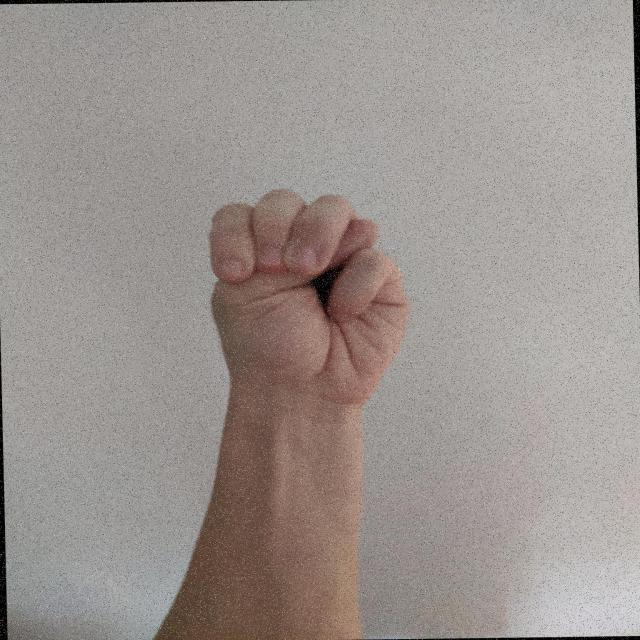M: (192, 180, 420, 412)
